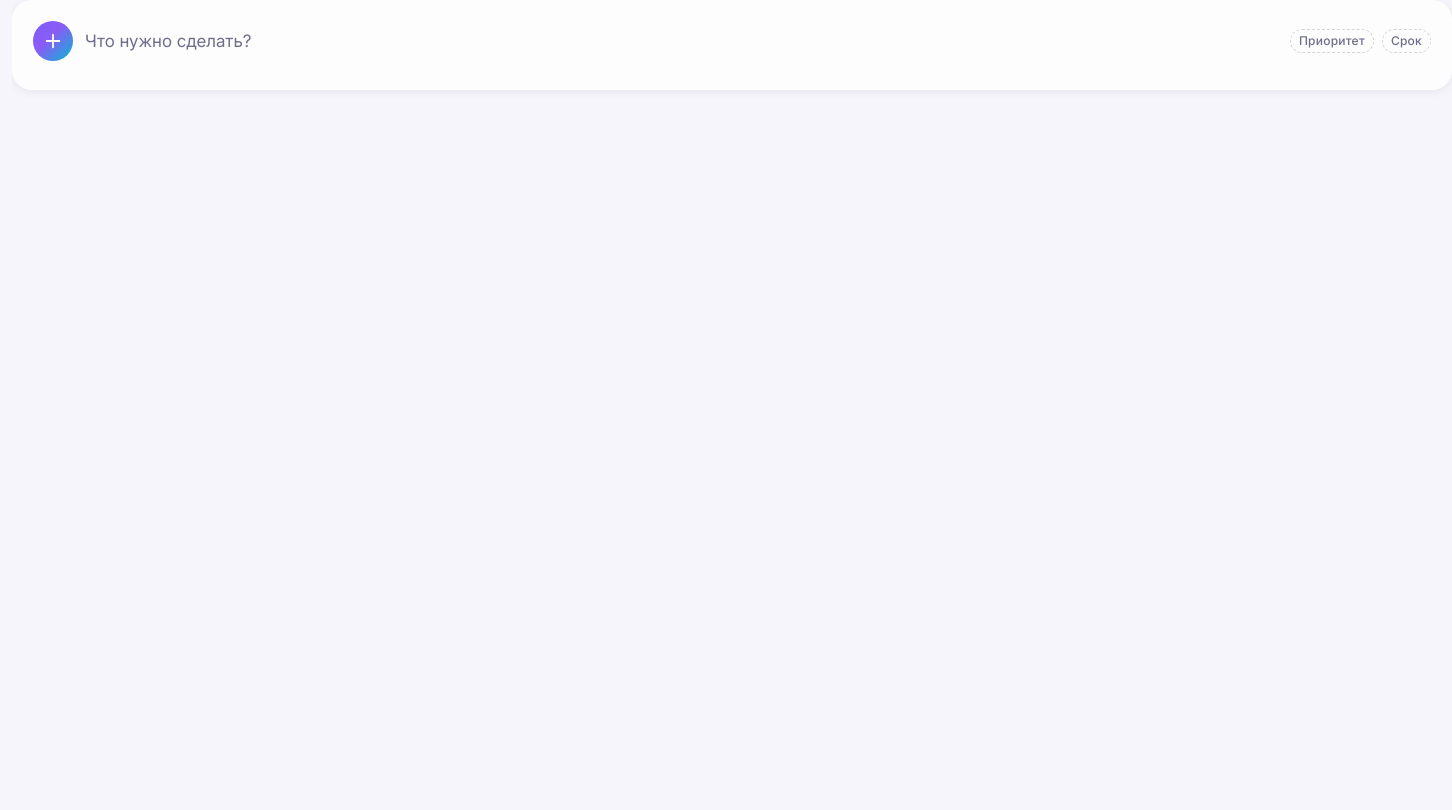
it: Composer — toast on add while filtered to completed (design-spec S5) › shows the exact S5 toast when adding a task while filtered to "Готовые"
The image size is (1452, 810).
Type "Новая задача" into the text box named "Текст новой задачи" at coordinates (681, 41), box [85,28,1278,54]
Then press Enter
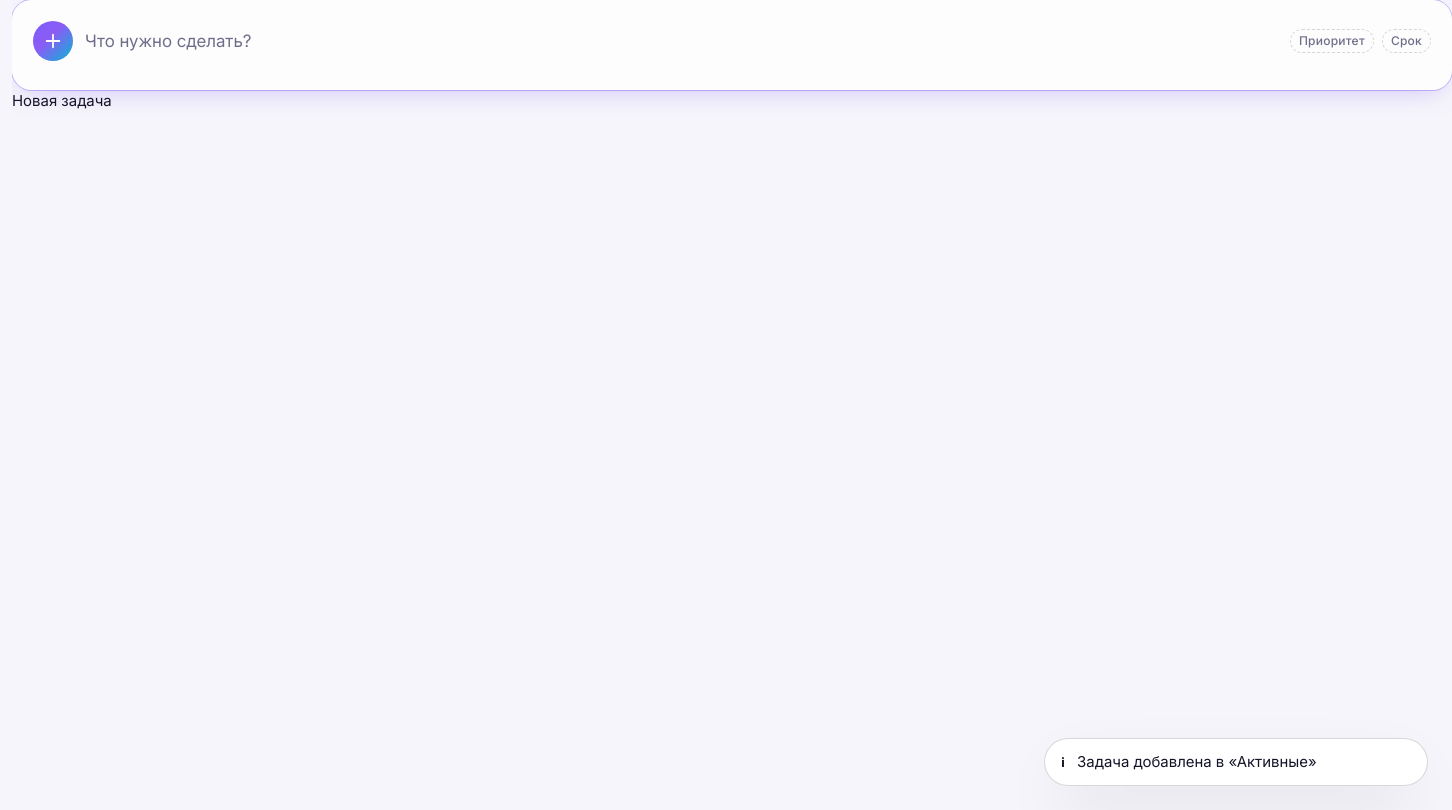
Check: the text "Задача добавлена в «Активные»" is shown, box [1077,752,1317,771]
